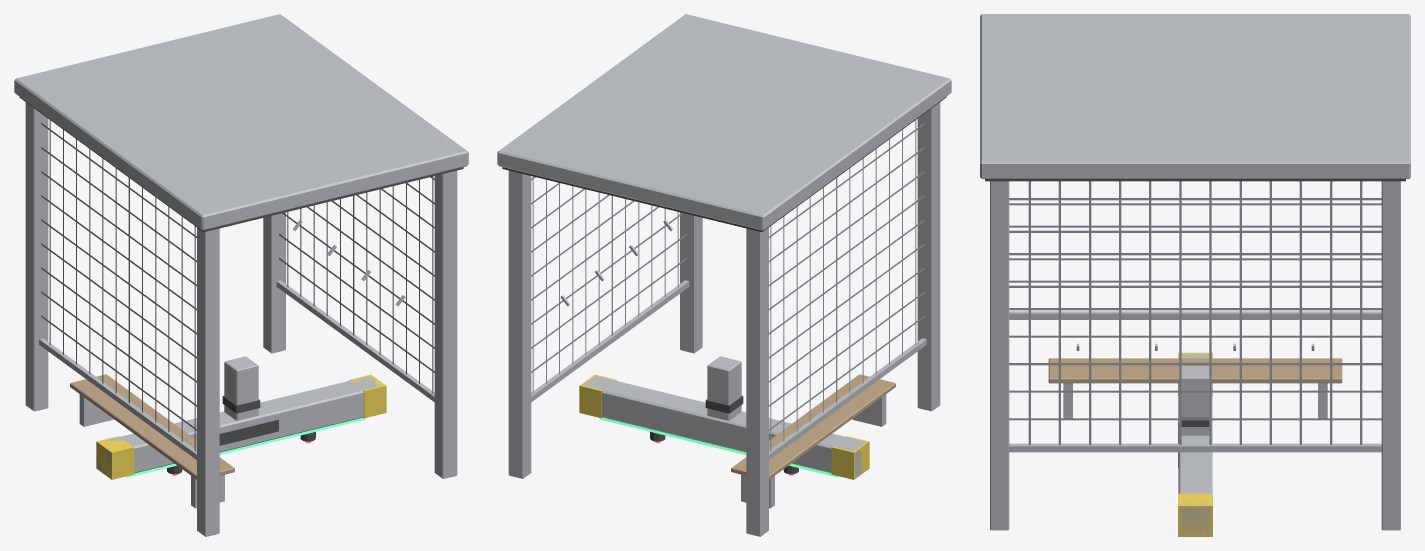
File: factory_stations.glb
3 renders of one model, left to right at view 1: azimuth 30°, elevation 25°; view 2: azimuth 150°, elevation 25°; view 3: azimuth 270°, elevation 25°, orthographic. The views are drawn at different scales.
Visible parts, largest first — view 1: fa_cage_mesh, fa_head_mesh, fa_post_mesh; view 2: fa_cage_mesh, fa_head_mesh, fa_post_mesh; view 3: fa_cage_mesh, fa_head_mesh, fa_post_mesh.
Part boxes in pixels (<box>): fa_cage_mesh: <box>14,14,468,536</box>; fa_head_mesh: <box>96,374,386,479</box>; fa_post_mesh: <box>222,356,260,420</box>; fa_cage_mesh: <box>497,14,951,536</box>; fa_head_mesh: <box>579,374,869,479</box>; fa_post_mesh: <box>705,356,743,420</box>; fa_cage_mesh: <box>980,14,1410,530</box>; fa_head_mesh: <box>1178,352,1212,536</box>; fa_post_mesh: <box>1181,366,1209,435</box>.
Bounding box in the file's own units: 3.7 × 4.44 × 4.4.
